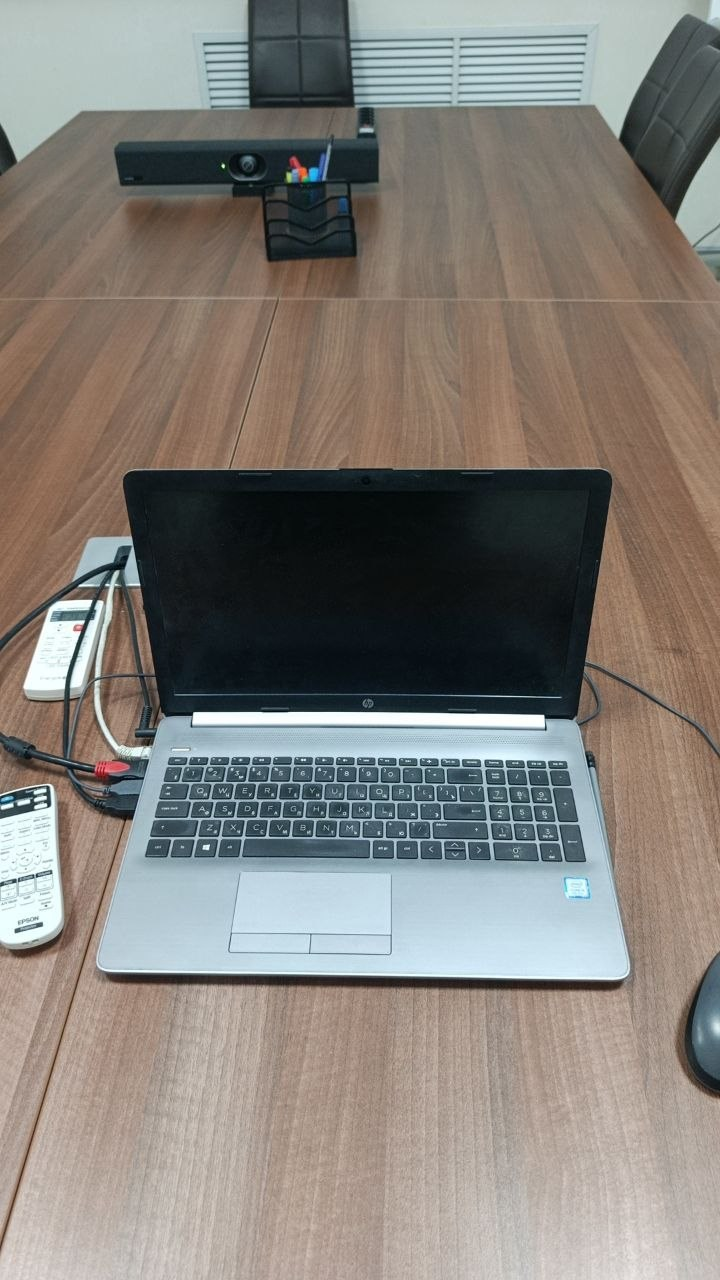laptop: (95, 466, 632, 983)
